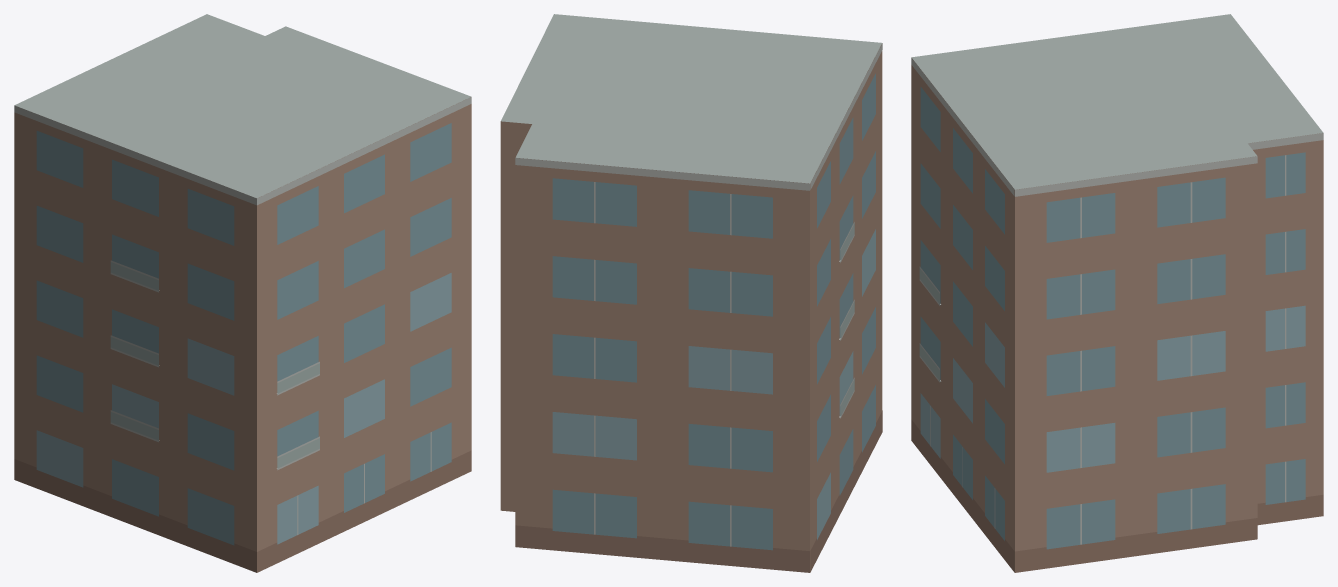
Rendered from survey-upis-32727526.glb.
3 views of the same model, side by side, from view 1: azimuth 30°, elevation 25°; view 2: azimuth 150°, elevation 25°; view 3: azimuth 270°, elevation 25° (orthographic). The views are drawn at different scales.
Parts seen in each view (by area): view 1: survey-upis-32727526.tmp; view 2: survey-upis-32727526.tmp; view 3: survey-upis-32727526.tmp.
Part boxes in pixels (bbox=[...]): survey-upis-32727526.tmp: bbox=[14, 14, 471, 572]; survey-upis-32727526.tmp: bbox=[500, 14, 882, 572]; survey-upis-32727526.tmp: bbox=[911, 14, 1323, 572].
Size of the model in its own units: 12.79 by 13 by 12.69.
